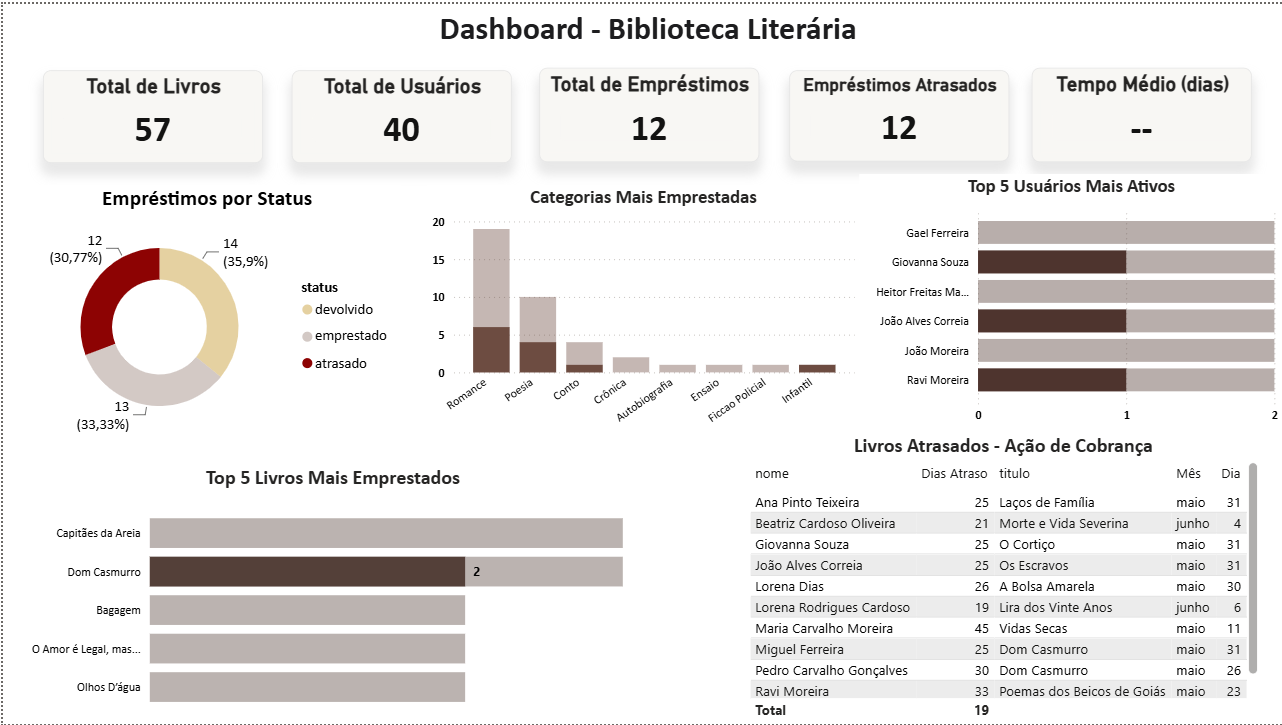

What the dashboard file says about the page in this screenshot:
{"tool":"powerbi","page":{"name":"Página 1","canvas":[1280,720],"ordinal":0},"visuals":[{"type":"textbox","box":[10,0,1270.3,53],"z":0},{"type":"cardVisual","title":"Total de Livros","fields":{"Data":["CountNonNull(public livros.id)"]},"box":[40,65.7,220,92.9],"z":1000},{"type":"cardVisual","title":"Total de Usuários","fields":{"Data":["CountNonNull(public usuarios.id)"]},"box":[288.6,65.7,220,92.9],"z":2000},{"type":"cardVisual","title":"Total de Empréstimos","fields":{"Data":["CountNonNull(public emprestimos.id)"]},"box":[535.7,64.3,220,94.3],"z":3000},{"type":"cardVisual","title":"Empréstimos Atrasados","fields":{"Data":["CountNonNull(public emprestimos.id)"]},"box":[785.7,65.7,220,91.4],"z":4000},{"type":"cardVisual","title":"Tempo Médio (dias)","fields":{"Data":["public emprestimos.Media Dias"]},"box":[1028.6,64.3,220,94.3],"z":5000},{"type":"donutChart","title":"Empréstimos por Status","fields":{"Category":["public emprestimos.status"],"Y":["CountNonNull(public emprestimos.id)"]},"box":[10,181.7,388.3,258.3],"z":6000},{"type":"clusteredBarChart","title":"Top 5 Livros Mais Emprestados","fields":{"Category":["public livros.titulo"],"Y":["CountNonNull(public emprestimos.id)"]},"box":[20,461.7,620,258.3],"z":7000},{"type":"clusteredColumnChart","title":"Categorias Mais Emprestadas","fields":{"Category":["public categorias.nome_categoria"],"Y":["CountNonNull(public emprestimos.id)"]},"box":[423.3,181.7,433.3,258.3],"z":8000},{"type":"clusteredBarChart","title":"Top 5 Usuários Mais Ativos","fields":{"Category":["public usuarios.nome"],"Y":["CountNonNull(public emprestimos.id)"]},"box":[856,170,424.3,258],"z":9000},{"type":"tableEx","title":"Livros Atrasados - Ação de Cobrança","fields":{"Values":["public usuarios.nome","public emprestimos.Dias Atraso","public livros.titulo","public emprestimos.data_emprestimo.Variation.Hierarquia de datas.Mês","public emprestimos.data_emprestimo.Variation.Hierarquia de datas.Dia"]},"box":[741.7,428.3,518.3,291.7],"z":10000}]}

Visuals, with their boxes in screenshot pixels (x1, y1, x2, y2), scaled from the page's 1280x720 canvas onto the 1282x725 screenshot:
textbox: left=10, top=0, right=1281, bottom=53
"Total de Livros" cardVisual: left=40, top=66, right=260, bottom=160
"Total de Usuários" cardVisual: left=289, top=66, right=509, bottom=160
"Total de Empréstimos" cardVisual: left=537, top=65, right=757, bottom=160
"Empréstimos Atrasados" cardVisual: left=787, top=66, right=1007, bottom=158
"Tempo Médio (dias)" cardVisual: left=1030, top=65, right=1251, bottom=160
"Empréstimos por Status" donutChart: left=10, top=183, right=399, bottom=443
"Top 5 Livros Mais Emprestados" clusteredBarChart: left=20, top=465, right=641, bottom=724
"Categorias Mais Emprestadas" clusteredColumnChart: left=424, top=183, right=858, bottom=443
"Top 5 Usuários Mais Ativos" clusteredBarChart: left=857, top=171, right=1281, bottom=431
"Livros Atrasados - Ação de Cobrança" tableEx: left=743, top=431, right=1262, bottom=724
